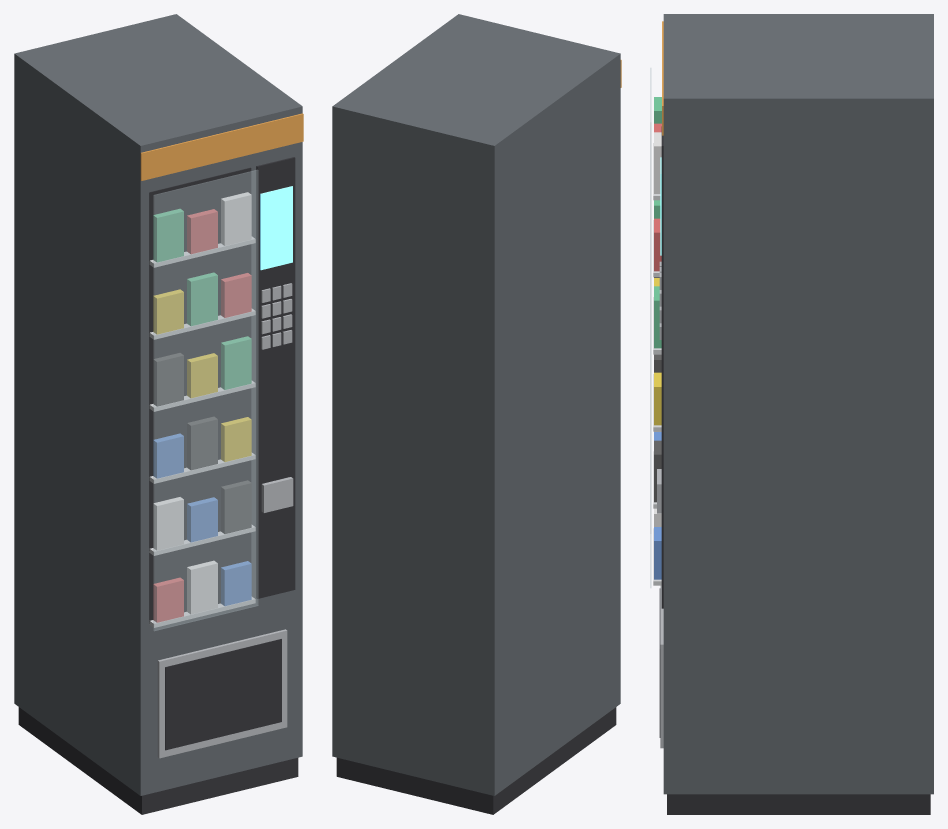
Rendered from maquina-43x58.glb.
3 views of the same model, side by side, from view 1: azimuth 30°, elevation 25°; view 2: azimuth 150°, elevation 25°; view 3: azimuth 270°, elevation 25° (orthographic). The views are drawn at different scales.
Parts seen in each view (by area): view 1: corpo, vidro, fundo_vitrine, painel, retirada, base, faixa, retirada_moldura, tela, produto1_0, produto3_2, produto0_1 (+22 smaller); view 2: corpo, base; view 3: corpo, base, painel, vidro, retirada_moldura.
Boxes of the visible parts, x1,y1,x2,y2 form: corpo: (14,14,302,795); vidro: (153,170,258,630); fundo_vitrine: (149,167,251,623); painel: (256,157,295,598); retirada: (165,639,281,750); base: (18,707,298,814); faixa: (140,113,303,180); retirada_moldura: (157,629,287,758); tela: (260,186,292,270); produto1_0: (153,497,183,550); produto3_2: (221,336,251,389); produto0_1: (187,560,217,614); corpo: (332,14,620,795); base: (336,707,616,814); corpo: (663,14,933,794); base: (667,794,930,814); painel: (661,126,663,608); vidro: (650,68,651,587); retirada_moldura: (660,585,663,748).
Size of the model in its own units: 0.43 by 1.7 by 0.6094.
